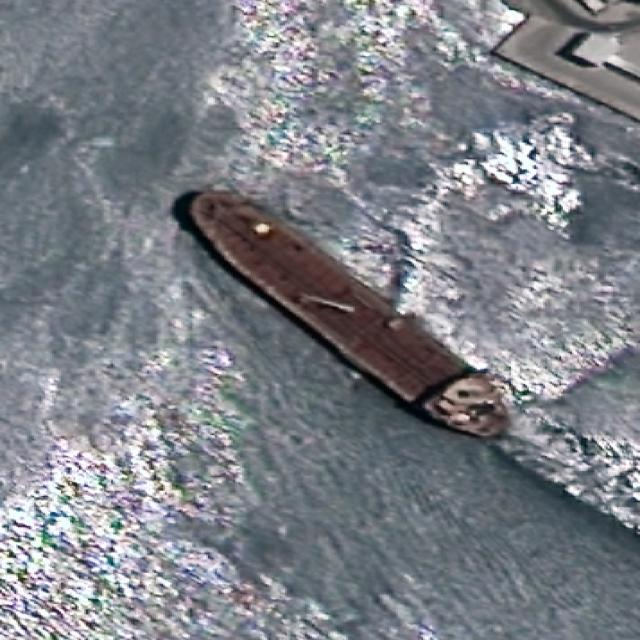Cargo: (158, 169, 538, 454)
